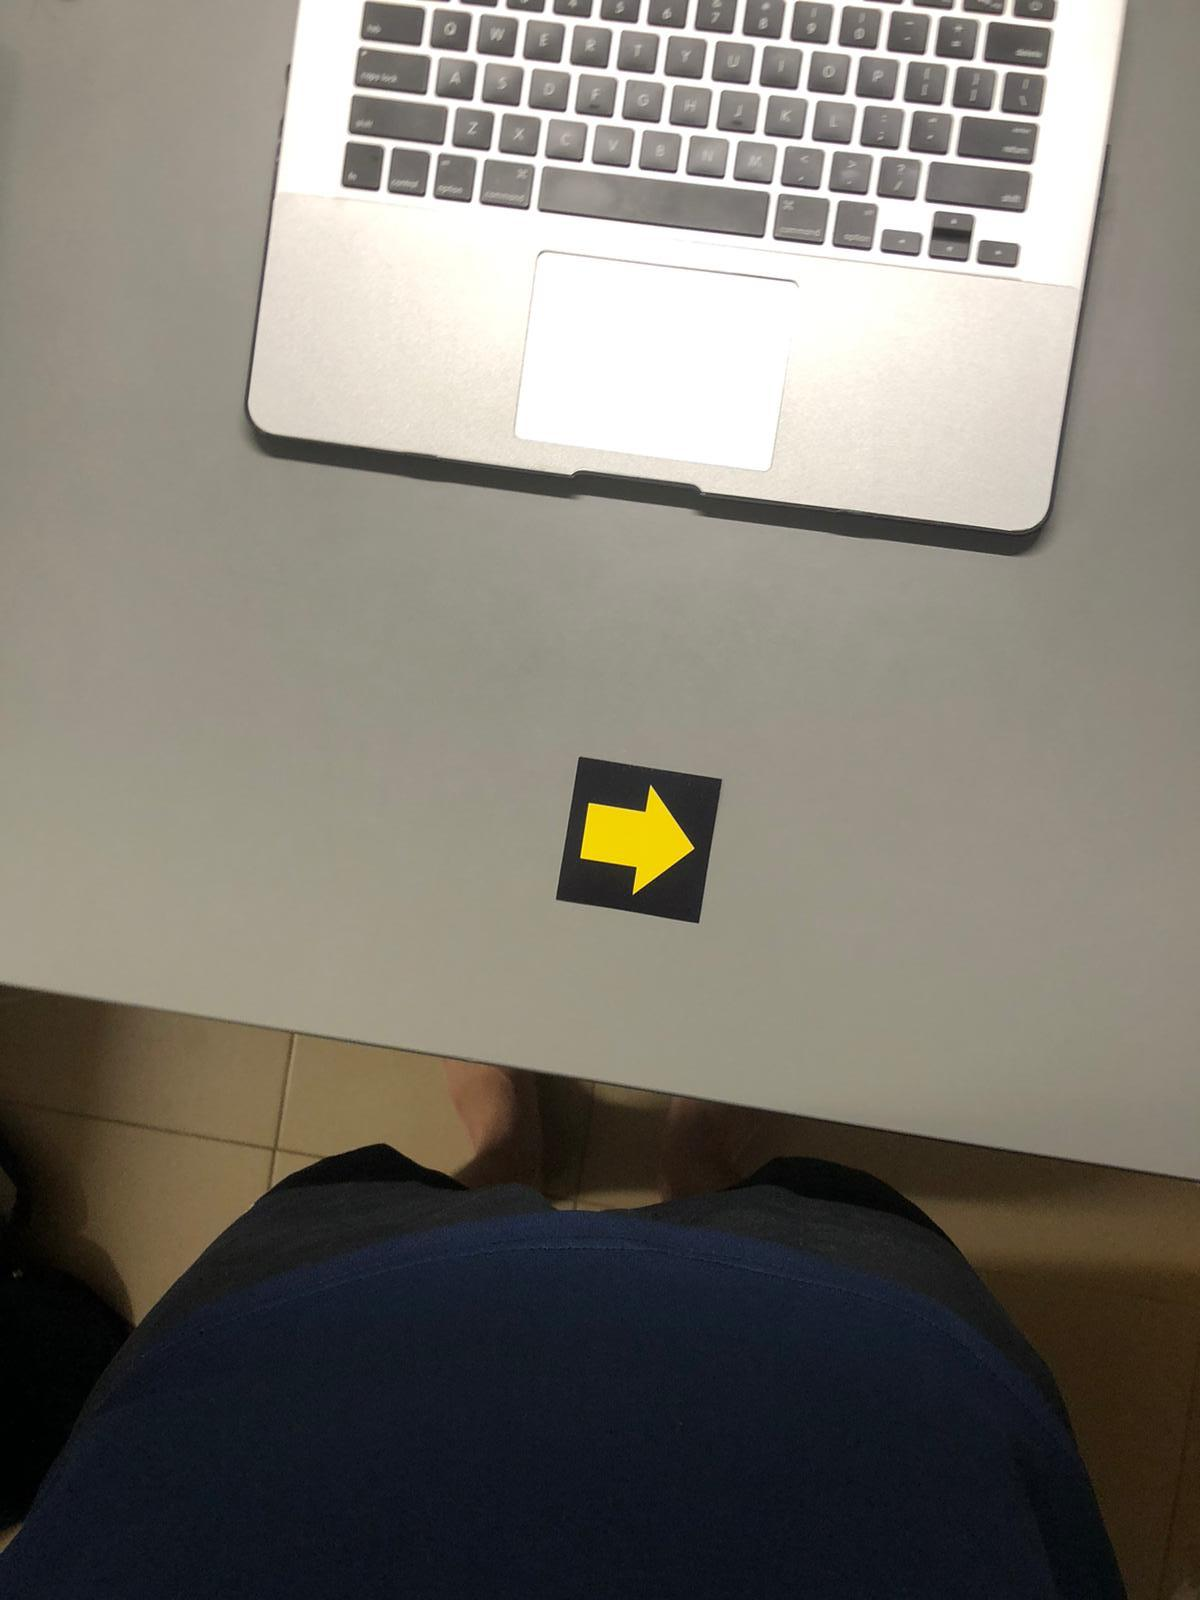Right Arrow: (570, 753, 715, 908)
